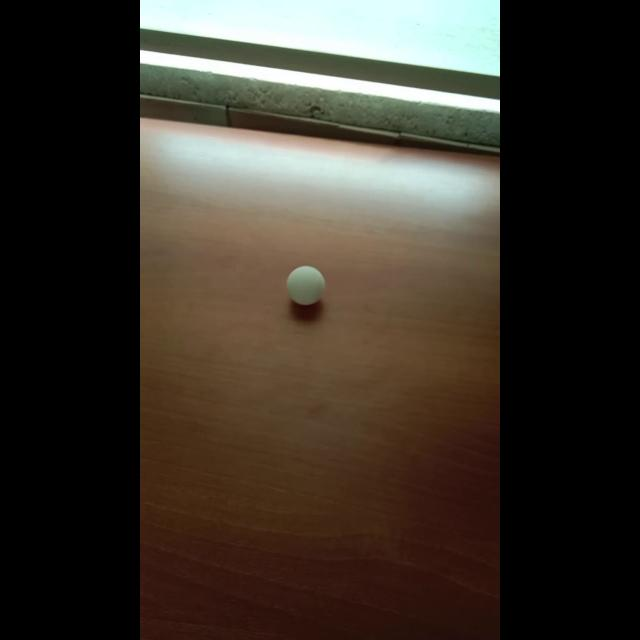white ball: (286, 265, 326, 305)
